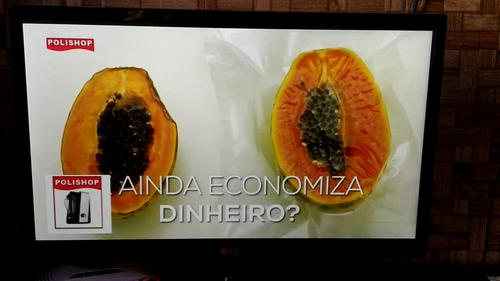Polishop #1: (47, 175, 112, 233)
